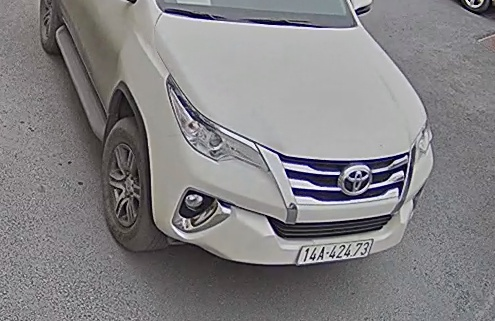vehicle plate: (295, 237, 378, 267)
